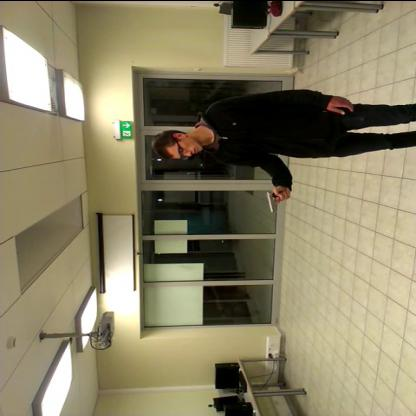Pistol: (257, 186, 289, 214)
